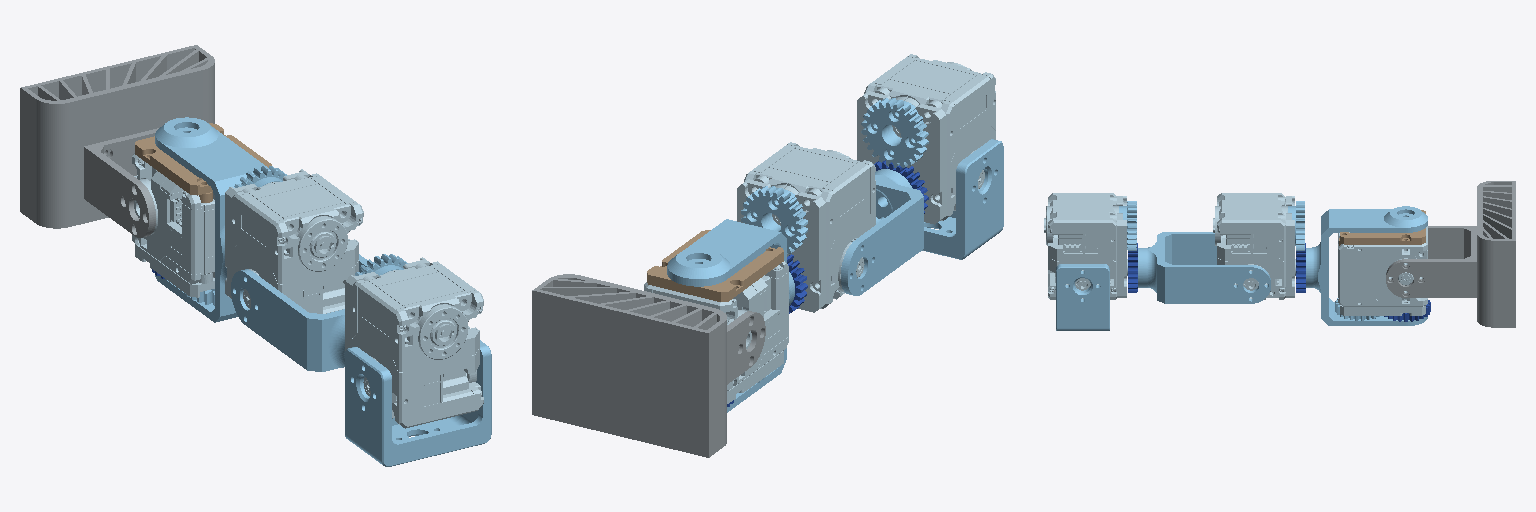
robot.urdf — left_arm_umi:
<?xml version="1.0" ?><robot name="left_arm_umi">  
  <link name="sho_pitch_link">    
    <visual>      
      <origin xyz="0 0 0" rpy="0 -0 0"/>      
      <geometry>        
        <mesh filename="package:///meshes/left_sho_pitch_link_visual.stl"/>        
      </geometry>      
      <material name="sho_pitch_link_material">        
        <color rgba="0.61568627450980395466 0.81176470588235294379 0.9294117647058824927 1.0"/>        
      </material>      
    </visual>    
    <collision>      
      <origin xyz="0 0 0" rpy="0 -0 0"/>      
      <geometry>        
        <mesh filename="package:///meshes/left_sho_pitch_link_collision.stl"/>        
      </geometry>      
    </collision>    
    <inertial>      
      <origin xyz="-6.4657779715960017825e-19 -2.2052288447398826838e-18 0.012913250798677600867" rpy="0 0 0"/>      
      <mass value="0.0085999999999999895972"/>      
      <inertia ixx="1.8365636406635799556e-06" ixy="0" ixz="0" iyy="4.0110869076839109814e-06" iyz="0" izz="3.5160516450492455693e-06"/>      
    </inertial>    
  </link>  

  <link name="2xl430_gears">    
    <visual>      
      <origin xyz="0 0 0" rpy="0 -0 0"/>      
      <geometry>        
        <mesh filename="package:///meshes/left_2xl430_gears_visual.stl"/>        
      </geometry>      
      <material name="2xl430_gears_material">        
        <color rgba="0.75914767920569226067 0.85560384745670925444 0.90519468321360618823 1.0"/>        
      </material>      
    </visual>    
    <collision>      
      <origin xyz="0 0 0" rpy="0 -0 0"/>      
      <geometry>        
        <mesh filename="package:///meshes/left_2xl430_gears_collision.stl"/>        
      </geometry>      
    </collision>    
    <inertial>      
      <origin xyz="-0.011592905737981712769 -0.0024238553642539663324 -0.018551095523800652243" rpy="0 0 0"/>      
      <mass value="0.11800003674524907338"/>      
      <inertia ixx="2.7511021050425133908e-05" ixy="9.0043904315059457427e-07" ixz="-2.3349710123437291678e-08" iyy="3.2796197843345773501e-05" iyz="-6.5715119654595543253e-07" izz="3.577573983574187309e-05"/>      
    </inertial>    
  </link>  

  <link name="spur_1m_24t_drive">    
    <visual>      
      <origin xyz="0 0 0" rpy="0 -0 0"/>      
      <geometry>        
        <mesh filename="package:///meshes/left_spur_1m_24t_drive_visual.stl"/>        
      </geometry>      
      <material name="spur_1m_24t_drive_material">        
        <color rgba="0.61568627450980406568 0.81176470588235294379 0.92941176470588238168 1.0"/>        
      </material>      
    </visual>    
    <collision>      
      <origin xyz="0 0 0" rpy="0 -0 0"/>      
      <geometry>        
        <mesh filename="package:///meshes/left_spur_1m_24t_drive_collision.stl"/>        
      </geometry>      
    </collision>    
    <inertial>      
      <origin xyz="3.0329768727181610639e-15 -3.3891425476220191508e-16 0.0048096451474093065287" rpy="0 0 0"/>      
      <mass value="0.0032000000000000001533"/>      
      <inertia ixx="1.4097598887016958673e-07" ixy="1.556282310200251252e-15" ixz="1.3007821291259216684e-36" iyy="1.4097598803635998845e-07" iyz="2.0801757662181522333e-36" izz="2.4107776386988830202e-07"/>      
    </inertial>    
  </link>  

  <joint name="left_sho_yaw_drive" type="revolute">    
    <origin xyz="-0.024000000716141004636 -0.019000000152450600283 -0.019000000152443286688" rpy="1.5707963267948328312 -1.2258104172924911424e-15 7.6362147953450801566e-14"/>    
    <parent link="2xl430_gears"/>    
    <child link="spur_1m_24t_drive"/>    
    <axis xyz="0 0 1"/>    
    <limit effort="1" velocity="20" lower="-2.6179938779914944114" upper="2.6179938779914944114"/>    
    <joint_properties friction="0.0"/>    
  </joint>  

  <link name="spur_1m_24t_driven">    
    <visual>      
      <origin xyz="0 0 0" rpy="0 -0 0"/>      
      <geometry>        
        <mesh filename="package:///meshes/left_spur_1m_24t_driven_visual.stl"/>        
      </geometry>      
      <material name="spur_1m_24t_driven_material">        
        <color rgba="0.23137254901960788156 0.38039215686274502337 0.7058823529411765163 1.0"/>        
      </material>      
    </visual>    
    <collision>      
      <origin xyz="0 0 0" rpy="0 -0 0"/>      
      <geometry>        
        <mesh filename="package:///meshes/left_spur_1m_24t_driven_collision.stl"/>        
      </geometry>      
    </collision>    
    <inertial>      
      <origin xyz="-2.7696338792817279401e-18 -1.6888946739707568705e-15 -0.00097237500038395777158" rpy="0 0 0"/>      
      <mass value="0.0026999999999999997093"/>      
      <inertia ixx="1.2202334915684080498e-07" ixy="-5.4145940442873918866e-38" ixz="-1.29880804458499659e-37" iyy="1.2202334915684067263e-07" iyz="-1.7775256456003019676e-37" izz="2.3180293204341257533e-07"/>      
    </inertial>    
  </link>  

  <link name="sho_yaw_link">    
    <visual>      
      <origin xyz="0 0 0" rpy="0 -0 0"/>      
      <geometry>        
        <mesh filename="package:///meshes/left_sho_yaw_link_visual.stl"/>        
      </geometry>      
      <material name="sho_yaw_link_material">        
        <color rgba="0.61568627450980384364 0.81176470588235294379 0.92941176470588238168 1.0"/>        
      </material>      
    </visual>    
    <collision>      
      <origin xyz="0 0 0" rpy="0 -0 0"/>      
      <geometry>        
        <mesh filename="package:///meshes/left_sho_yaw_link_collision.stl"/>        
      </geometry>      
    </collision>    
    <inertial>      
      <origin xyz="-1.1660583139255996671e-18 3.5695430205023107659e-18 -0.024649285094360082193" rpy="0 0 0"/>      
      <mass value="0.01450000000000000247"/>      
      <inertia ixx="9.2365904614004439553e-06" ixy="3.5862833440698297613e-13" ixz="2.4228256401787986045e-43" iyy="5.8163826335078774773e-06" iyz="1.6375773286667063138e-35" izz="4.5074356741562122031e-06"/>      
    </inertial>    
  </link>  

  <link name="2xl430_gears_2">    
    <visual>      
      <origin xyz="0 0 0" rpy="0 -0 0"/>      
      <geometry>        
        <mesh filename="package:///meshes/left_2xl430_gears_2_visual.stl"/>        
      </geometry>      
      <material name="2xl430_gears_2_material">        
        <color rgba="0.75914767920569226067 0.85560384745670925444 0.90519468321360618823 1.0"/>        
      </material>      
    </visual>    
    <collision>      
      <origin xyz="0 0 0" rpy="0 -0 0"/>      
      <geometry>        
        <mesh filename="package:///meshes/left_2xl430_gears_2_collision.stl"/>        
      </geometry>      
    </collision>    
    <inertial>      
      <origin xyz="-0.011592905737977807906 -0.0024238553642531254252 -0.018551095523810002402" rpy="0 0 0"/>      
      <mass value="0.11800003674524907338"/>      
      <inertia ixx="2.7511021050425465945e-05" ixy="9.0043904315422718094e-07" ixz="-2.3349710124856703831e-08" iyy="3.2796197843347501448e-05" iyz="-6.5715119654968068343e-07" izz="3.577573983574221868e-05"/>      
    </inertial>    
  </link>  

  <link name="spur_1m_24t_drive_2">    
    <visual>      
      <origin xyz="0 0 0" rpy="0 -0 0"/>      
      <geometry>        
        <mesh filename="package:///meshes/left_spur_1m_24t_drive_2_visual.stl"/>        
      </geometry>      
      <material name="spur_1m_24t_drive_2_material">        
        <color rgba="0.61568627450980406568 0.81176470588235294379 0.92941176470588238168 1.0"/>        
      </material>      
    </visual>    
    <collision>      
      <origin xyz="0 0 0" rpy="0 -0 0"/>      
      <geometry>        
        <mesh filename="package:///meshes/left_spur_1m_24t_drive_2_collision.stl"/>        
      </geometry>      
    </collision>    
    <inertial>      
      <origin xyz="3.0399157666220686867e-15 -3.3891425476220186578e-16 0.0048096451474092995898" rpy="0 0 0"/>      
      <mass value="0.0032000000000000001533"/>      
      <inertia ixx="1.4097598887016958673e-07" ixy="1.5562823135089737022e-15" ixz="1.0580991581479530361e-37" iyy="1.4097598803635998845e-07" iyz="1.7893503109200296805e-36" izz="2.4107776386988830202e-07"/>      
    </inertial>    
  </link>  

  <joint name="left_elbow_yaw_drive" type="revolute">    
    <origin xyz="-0.024000000716137528251 -0.019000000152447529822 -0.019000000152459547986" rpy="1.570796326795050879 -2.4708842848455862195e-13 -6.0621939164177121919e-14"/>    
    <parent link="2xl430_gears_2"/>    
    <child link="spur_1m_24t_drive_2"/>    
    <axis xyz="0 0 1"/>    
    <limit effort="1" velocity="20" lower="-2.6179938779914944114" upper="2.6179938779914944114"/>    
    <joint_properties friction="0.0"/>    
  </joint>  

  <link name="spur_1m_24t_driven_2">    
    <visual>      
      <origin xyz="0 0 0" rpy="0 -0 0"/>      
      <geometry>        
        <mesh filename="package:///meshes/left_spur_1m_24t_driven_2_visual.stl"/>        
      </geometry>      
      <material name="spur_1m_24t_driven_2_material">        
        <color rgba="0.23137254901960788156 0.38039215686274502337 0.7058823529411765163 1.0"/>        
      </material>      
    </visual>    
    <collision>      
      <origin xyz="0 0 0" rpy="0 -0 0"/>      
      <geometry>        
        <mesh filename="package:///meshes/left_spur_1m_24t_driven_2_collision.stl"/>        
      </geometry>      
    </collision>    
    <inertial>      
      <origin xyz="-2.7696338792814941323e-18 -1.6891334800965897676e-15 -0.00097237500038395430213" rpy="0 0 0"/>      
      <mass value="0.0026999999999999997093"/>      
      <inertia ixx="1.2202334915684080498e-07" ixy="7.4096554914502797611e-48" ixz="2.2216384613704353782e-36" iyy="1.2202334915684067263e-07" iyz="-3.3166193968997528155e-38" izz="2.3180293204341257533e-07"/>      
    </inertial>    
  </link>  

  <link name="elb_yaw_link">    
    <visual>      
      <origin xyz="0 0 0" rpy="0 -0 0"/>      
      <geometry>        
        <mesh filename="package:///meshes/left_elb_yaw_link_visual.stl"/>        
      </geometry>      
      <material name="elb_yaw_link_material">        
        <color rgba="0.61568627450980395466 0.81176470588235294379 0.92941176470588227065 1.0"/>        
      </material>      
    </visual>    
    <collision>      
      <origin xyz="0 0 0" rpy="0 -0 0"/>      
      <geometry>        
        <mesh filename="package:///meshes/left_elb_yaw_link_collision.stl"/>        
      </geometry>      
    </collision>    
    <inertial>      
      <origin xyz="5.3127688027629623281e-08 0.0019833638641961665906 -0.023416643551549959357" rpy="0 0 0"/>      
      <mass value="0.017500000000000001665"/>      
      <inertia ixx="1.4134344903109199776e-05" ixy="1.6945783921985168561e-12" ixz="-1.1286398721840441603e-11" iyy="6.6435900776211374285e-06" iyz="1.0545227077253063932e-06" izz="8.9925290757999044535e-06"/>      
    </inertial>    
  </link>  

  <link name="spur_1m_24t_driven_3">    
    <visual>      
      <origin xyz="0 0 0" rpy="0 -0 0"/>      
      <geometry>        
        <mesh filename="package:///meshes/left_spur_1m_24t_driven_3_visual.stl"/>        
      </geometry>      
      <material name="spur_1m_24t_driven_3_material">        
        <color rgba="0.23137254901960788156 0.38039215686274502337 0.7058823529411765163 1.0"/>        
      </material>      
    </visual>    
    <collision>      
      <origin xyz="0 0 0" rpy="0 -0 0"/>      
      <geometry>        
        <mesh filename="package:///meshes/left_spur_1m_24t_driven_3_collision.stl"/>        
      </geometry>      
    </collision>    
    <inertial>      
      <origin xyz="-2.7696338792817514365e-18 -1.6888946739707584482e-15 -0.0025723750003839619682" rpy="0 0 0"/>      
      <mass value="0.0026999999999999997093"/>      
      <inertia ixx="1.2202334915684085792e-07" ixy="7.5686617236975896587e-37" ixz="-3.973746367682918447e-37" iyy="1.2202334915684067263e-07" iyz="1.9991124742865135215e-36" izz="2.3180293204341268121e-07"/>      
    </inertial>    
  </link>  

  <link name="2xl430_gears_3">    
    <visual>      
      <origin xyz="0 0 0" rpy="0 -0 0"/>      
      <geometry>        
        <mesh filename="package:///meshes/left_2xl430_gears_3_visual.stl"/>        
      </geometry>      
      <material name="2xl430_gears_3_material">        
        <color rgba="0.75914767920569226067 0.85560384745670925444 0.90519468321360618823 1.0"/>        
      </material>      
    </visual>    
    <collision>      
      <origin xyz="0 0 0" rpy="0 -0 0"/>      
      <geometry>        
        <mesh filename="package:///meshes/left_2xl430_gears_3_collision.stl"/>        
      </geometry>      
    </collision>    
    <inertial>      
      <origin xyz="0.00044890447620203491417 0.011592905379898174253 -0.024576144788197706176" rpy="0 0 0"/>      
      <mass value="0.11800003674524907338"/>      
      <inertia ixx="3.577573983574154783e-05" ixy="2.334971012357639037e-08" ixz="6.5715119654891581268e-07" iyy="2.7511021050426397682e-05" iyz="9.0043904315388042683e-07" izz="3.279619784334573962e-05"/>      
    </inertial>    
  </link>  

  <link name="spur_1m_24t_drive_3">    
    <visual>      
      <origin xyz="0 0 0" rpy="0 -0 0"/>      
      <geometry>        
        <mesh filename="package:///meshes/left_spur_1m_24t_drive_3_visual.stl"/>        
      </geometry>      
      <material name="spur_1m_24t_drive_3_material">        
        <color rgba="0.61568627450980406568 0.81176470588235294379 0.92941176470588238168 1.0"/>        
      </material>      
    </visual>    
    <collision>      
      <origin xyz="0 0 0" rpy="0 -0 0"/>      
      <geometry>        
        <mesh filename="package:///meshes/left_spur_1m_24t_drive_3_collision.stl"/>        
      </geometry>      
    </collision>    
    <inertial>      
      <origin xyz="3.0329768727181610639e-15 -3.3891425476220186578e-16 0.004809645147409304794" rpy="0 0 0"/>      
      <mass value="0.0032000000000000001533"/>      
      <inertia ixx="1.409759888701696132e-07" ixy="1.5562823188323177284e-15" ixz="-7.1146411252036581317e-36" iyy="1.4097598803636004139e-07" iyz="4.87979885849671193e-37" izz="2.4107776386988830202e-07"/>      
    </inertial>    
  </link>  

  <joint name="left_wrist_pitch_drive" type="revolute">    
    <origin xyz="-1.524411552671568168e-10 0.024000000358058659611 -0.008000000000006885284" rpy="9.3688120281041050571e-15 -2.4754138690627644039e-13 -1.570796326794971387"/>    
    <parent link="2xl430_gears_3"/>    
    <child link="spur_1m_24t_drive_3"/>    
    <axis xyz="0 0 1"/>    
    <limit effort="1" velocity="20" lower="-1.9198621771937625091" upper="1.3962634015954635824"/>    
    <joint_properties friction="0.0"/>    
  </joint>  

  <link name="hand">    
    <visual>      
      <origin xyz="0 0 0" rpy="0 -0 0"/>      
      <geometry>        
        <mesh filename="package:///meshes/left_hand_visual.stl"/>        
      </geometry>      
      <material name="hand_material">        
        <color rgba="0.64149913129808888712 0.67624720774385715938 0.69709605361131798951 1.0"/>        
      </material>      
    </visual>    
    <collision>      
      <origin xyz="0 0 0" rpy="0 -0 0"/>      
      <geometry>        
        <mesh filename="package:///meshes/left_hand_collision.stl"/>        
      </geometry>      
    </collision>    
    <inertial>      
      <origin xyz="-0.00370786937874344278 0.042127339671143342048 -0.018490328271618890893" rpy="0 0 0"/>      
      <mass value="0.039499999999999972633"/>      
      <inertia ixx="2.4635502047218475399e-05" ixy="6.2323015589611070721e-07" ixz="1.439144617802384392e-08" iyy="2.5475207220956867695e-05" iyz="-4.0870433587616749489e-08" izz="1.346667924886838862e-05"/>      
    </inertial>    
  </link>  

  <joint name="left_wrist_roll" type="revolute">    
    <origin xyz="0.019000000000007885581 -3.580815921555569048e-10 -0.027000000152448064283" rpy="3.141592653589793116 -1.5707963267945475039 0"/>    
    <parent link="2xl430_gears_3"/>    
    <child link="hand"/>    
    <axis xyz="0 0 1"/>    
    <limit effort="1" velocity="20" lower="-1.9198621771937625091" upper="1.3962634015954635824"/>    
    <joint_properties friction="0.0"/>    
  </joint>  

  <link name="wrist_bearing_plate">    
    <visual>      
      <origin xyz="0 0 0" rpy="0 -0 0"/>      
      <geometry>        
        <mesh filename="package:///meshes/left_wrist_bearing_plate_visual.stl"/>        
      </geometry>      
      <material name="wrist_bearing_plate_material">        
        <color rgba="0.71932243125689054875 0.63128434304969727187 0.52422389360984933404 1.0"/>        
      </material>      
    </visual>    
    <collision>      
      <origin xyz="0 0 0" rpy="0 -0 0"/>      
      <geometry>        
        <mesh filename="package:///meshes/left_wrist_bearing_plate_collision.stl"/>        
      </geometry>      
    </collision>    
    <inertial>      
      <origin xyz="-0.0075835583121500165643 -0.015499999999999977338 -0.0018386323705903283732" rpy="0 0 0"/>      
      <mass value="0.0049000367468305557062"/>      
      <inertia ixx="4.9707430109150129132e-07" ixy="1.2128080407254277364e-22" ixz="1.8100904820814061718e-08" iyy="7.1268523603538553059e-07" iyz="6.3917125174818354979e-24" izz="1.1919657811600107117e-06"/>      
    </inertial>    
  </link>  

  <joint name="left_wrist_pitch_fixed" type="fixed">    
    <origin xyz="0.015500000000007495629 -1.7430501486614957685e-14 -0.044999999999998895051" rpy="4.0578651550042264519e-14 -2.8213542612434331081e-13 -1.570796326794906328"/>    
    <parent link="2xl430_gears_3"/>    
    <child link="wrist_bearing_plate"/>    
    <axis xyz="0 0 1"/>    
    <limit effort="1" velocity="20"/>    
    <joint_properties friction="0.0"/>    
  </joint>  

  <joint name="left_wrist_pitch_driven" type="revolute">    
    <origin xyz="5.5511151231257827021e-17 -4.7331654313260708325e-30 -0.0015999999999999989925" rpy="-2.6917187154893159429e-14 -2.6645352591003750659e-14 -1.570796326794896558"/>    
    <parent link="spur_1m_24t_driven_3"/>    
    <child link="2xl430_gears_3"/>    
    <axis xyz="0 0 1"/>    
    <limit effort="1" velocity="20" lower="-1.3962634015954635824" upper="1.9198621771937625091"/>    
    <joint_properties friction="0.0"/>    
  </joint>  

  <joint name="left_wrist_roll_fixed" type="fixed">    
    <origin xyz="-3.1554436208840472216e-30 -0.025300000000000003042 -0.052000000000000046185" rpy="1.5707963267949236474 -1.5707963267948696906 0"/>    
    <parent link="elb_yaw_link"/>    
    <child link="spur_1m_24t_driven_3"/>    
    <axis xyz="0 0 1"/>    
    <limit effort="1" velocity="20"/>    
    <joint_properties friction="0.0"/>    
  </joint>  

  <joint name="left_elbow_yaw_fixed" type="fixed">    
    <origin xyz="3.1554436208840472216e-30 0 0.0015999999999999764411" rpy="-3.141592653589793116 6.8585119145426910438e-26 -7.6666465467942038555e-26"/>    
    <parent link="spur_1m_24t_driven_2"/>    
    <child link="elb_yaw_link"/>    
    <axis xyz="0 0 1"/>    
    <limit effort="1" velocity="20"/>    
    <joint_properties friction="0.0"/>    
  </joint>  

  <joint name="left_elbow_yaw_driven" type="revolute">    
    <origin xyz="-3.5806395001780622067e-10 -0.027000000152452907631 -0.019000000000006608825" rpy="1.5707963267949571762 1.5707963267947377961 0"/>    
    <parent link="2xl430_gears_2"/>    
    <child link="spur_1m_24t_driven_2"/>    
    <axis xyz="0 0 1"/>    
    <limit effort="1" velocity="20" lower="-2.6179938779914944114" upper="2.6179938779914944114"/>    
    <joint_properties friction="0.0"/>    
  </joint>  

  <joint name="left_elbow_roll" type="revolute">    
    <origin xyz="0 -0.018999999999999999528 -0.05900000000000000383" rpy="1.570796326794896558 -8.2694607970959069176e-16 -2.2204460490005989148e-16"/>    
    <parent link="sho_yaw_link"/>    
    <child link="2xl430_gears_2"/>    
    <axis xyz="0 0 1"/>    
    <limit effort="1" velocity="20" lower="-1.9198621771937625091" upper="2.4434609527920612138"/>    
    <joint_properties friction="0.0"/>    
  </joint>  

  <joint name="left_sho_yaw_fixed" type="fixed">    
    <origin xyz="0 -3.9443045261050590271e-31 0.0016000000000000041966" rpy="-3.1415926535897917837 7.7715611727616959238e-16 7.7715611725338728944e-16"/>    
    <parent link="spur_1m_24t_driven"/>    
    <child link="sho_yaw_link"/>    
    <axis xyz="0 0 1"/>    
    <limit effort="1" velocity="20"/>    
    <joint_properties friction="0.0"/>    
  </joint>  

  <joint name="left_sho_yaw_driven" type="revolute">    
    <origin xyz="-3.5807028869738743992e-10 -0.027000000152450923108 -0.018999999999999878098" rpy="1.5707963267948492625 8.0395273179087848749e-14 9.4924068605497912938e-14"/>    
    <parent link="2xl430_gears"/>    
    <child link="spur_1m_24t_driven"/>    
    <axis xyz="0 0 1"/>    
    <limit effort="1" velocity="20" lower="-2.6179938779914944114" upper="2.6179938779914944114"/>    
    <joint_properties friction="0.0"/>    
  </joint>  

  <joint name="left_sho_roll" type="revolute">    
    <origin xyz="-0.018999999999999999528 9.3241386866726118567e-18 0.027000000000000006634" rpy="-3.141592653589793116 1.5707963267948936714 0"/>    
    <parent link="sho_pitch_link"/>    
    <child link="2xl430_gears"/>    
    <axis xyz="0 0 1"/>    
    <limit effort="1" velocity="20" lower="-1.570796326794896558" upper="0.34906585039886589561"/>    
    <joint_properties friction="0.0"/>    
  </joint>  


</robot>

--- What the picture shows (computed from the rendered views, not written in the file) ---
3 views of the same robot in one strip: view 1: azimuth 30°, elevation 25°; view 2: azimuth 150°, elevation 25°; view 3: azimuth 270°, elevation 25° (orthographic).
Model left_arm_umi with 14 links and 13 joints (9 revolute, 4 fixed), rooted at sho_pitch_link, posed every joint at zero.
Visible links, largest first — view 1: hand, 2xl430_gears, 2xl430_gears_2, sho_pitch_link, 2xl430_gears_3, elb_yaw_link, sho_yaw_link, wrist_bearing_plate, spur_1m_24t_drive, spur_1m_24t_drive_2; view 2: hand, 2xl430_gears_2, 2xl430_gears, sho_yaw_link, sho_pitch_link, elb_yaw_link, 2xl430_gears_3, spur_1m_24t_drive, wrist_bearing_plate, spur_1m_24t_drive_2, spur_1m_24t_driven_2, spur_1m_24t_driven; view 3: hand, sho_yaw_link, 2xl430_gears_2, 2xl430_gears, 2xl430_gears_3, elb_yaw_link, sho_pitch_link, wrist_bearing_plate, spur_1m_24t_drive, spur_1m_24t_drive_2.
Link boxes in pixels (x1,y1,x2,y2): hand: (20, 45, 214, 237); 2xl430_gears: (345, 257, 483, 428); 2xl430_gears_2: (225, 169, 363, 313); sho_pitch_link: (345, 340, 491, 466); 2xl430_gears_3: (132, 153, 214, 297); elb_yaw_link: (155, 117, 267, 322); sho_yaw_link: (231, 254, 367, 371); wrist_bearing_plate: (135, 123, 271, 202); spur_1m_24t_drive: (355, 254, 407, 275); spur_1m_24t_drive_2: (234, 166, 286, 187); hand: (532, 274, 765, 457); 2xl430_gears_2: (737, 142, 875, 312); 2xl430_gears: (857, 54, 995, 224); sho_yaw_link: (841, 169, 923, 295); sho_pitch_link: (922, 139, 1003, 259); elb_yaw_link: (667, 219, 794, 412); 2xl430_gears_3: (644, 261, 788, 403); spur_1m_24t_drive: (861, 98, 928, 167); wrist_bearing_plate: (647, 230, 783, 301); spur_1m_24t_drive_2: (741, 186, 807, 253); spur_1m_24t_driven_2: (787, 254, 807, 313); spur_1m_24t_driven: (874, 160, 928, 213); hand: (1386, 181, 1515, 327); sho_yaw_link: (1138, 232, 1270, 303); 2xl430_gears_2: (1213, 193, 1295, 299); 2xl430_gears: (1044, 193, 1127, 299); 2xl430_gears_3: (1338, 226, 1427, 315); elb_yaw_link: (1306, 206, 1427, 325); sho_pitch_link: (1056, 264, 1109, 330); wrist_bearing_plate: (1339, 210, 1425, 245); spur_1m_24t_drive: (1119, 201, 1136, 250); spur_1m_24t_drive_2: (1288, 201, 1304, 250).
Bounding box of the posed robot: 0.074 × 0.2452 × 0.0652 m (x, y, z).
Meshes: 14 distinct files referenced, 14 mesh visuals loaded (14 binary STL).
